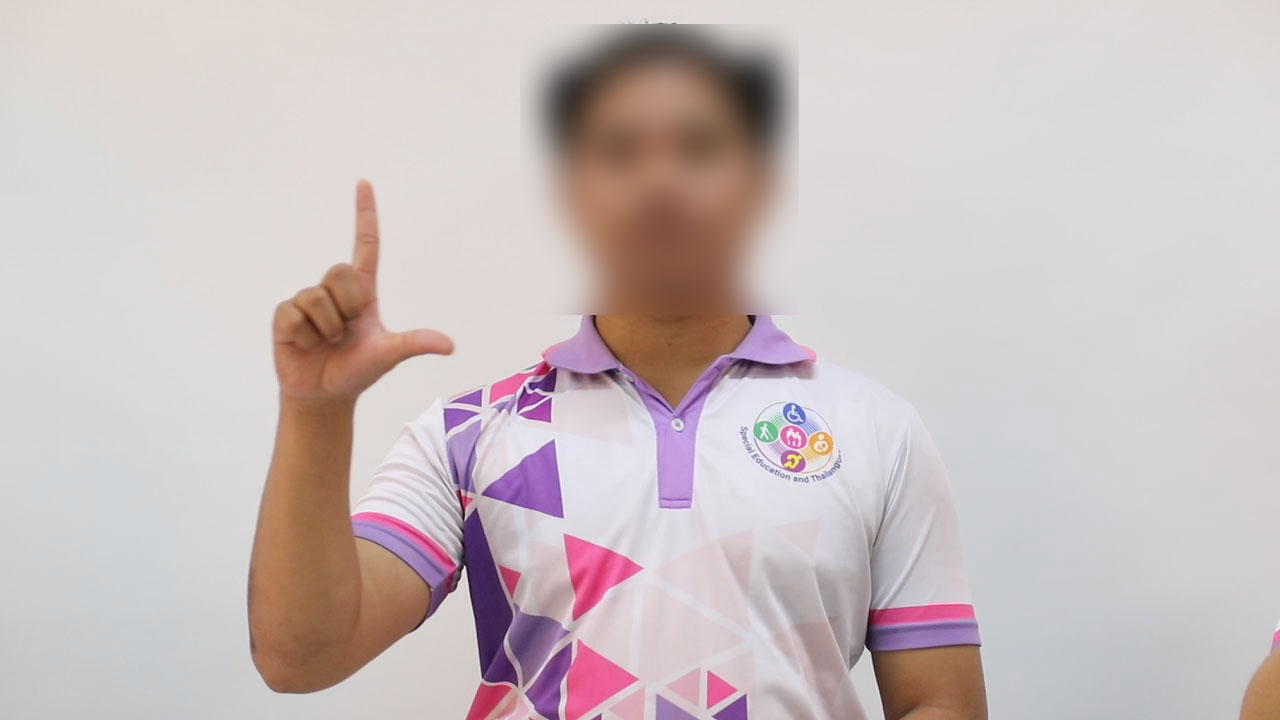lor: (251, 162, 472, 425)
